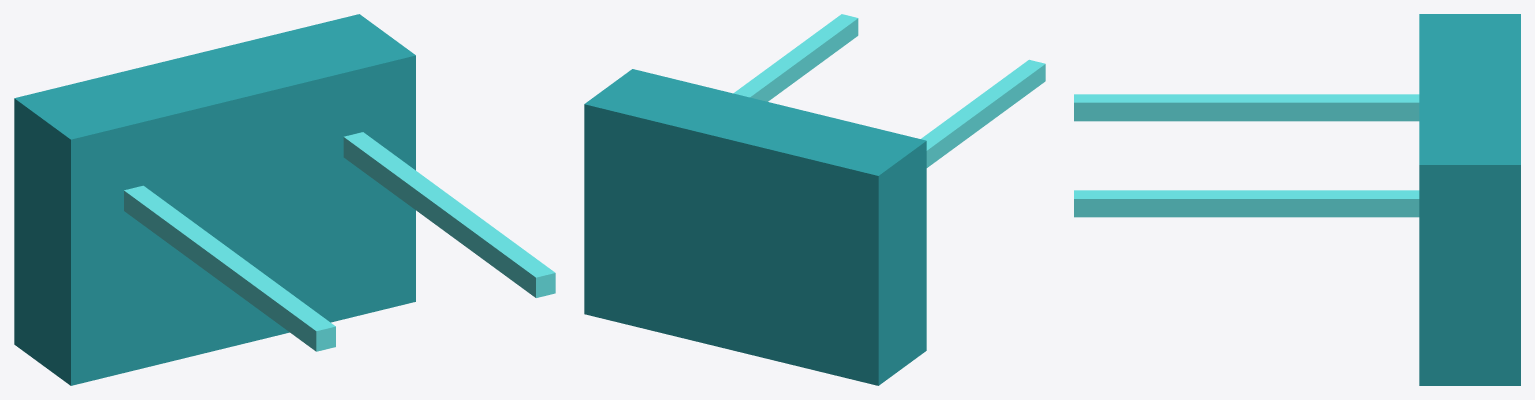
The model's file is smart-hub-router.glb.
3 views of the same model, side by side, from view 1: azimuth 30°, elevation 25°; view 2: azimuth 150°, elevation 25°; view 3: azimuth 270°, elevation 25° (orthographic). The views are drawn at different scales.
Parts seen in each view (by area): view 1: world; view 2: world; view 3: world.
Part boxes in pixels (box(x1,y1,x2,y2)): world: box(14, 14, 555, 385); world: box(584, 14, 1045, 385); world: box(1074, 14, 1520, 385).
Size of the model in its own units: 0.88 by 0.6 by 1.1.
